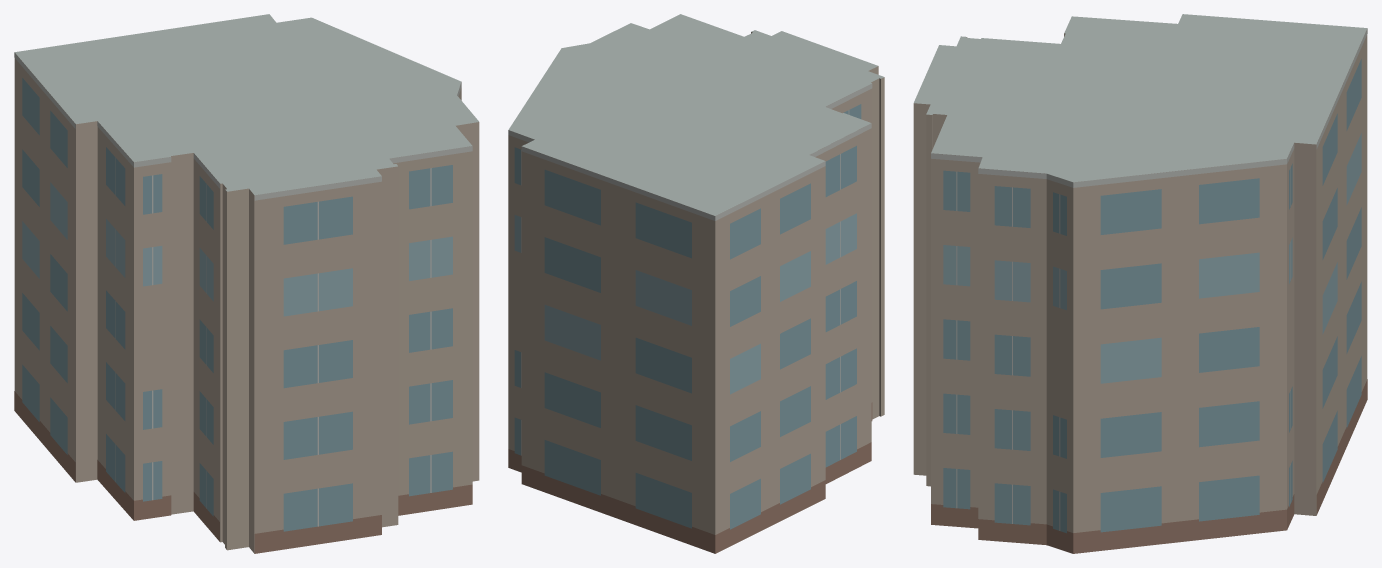
File: survey-upis-32925874.glb
3 views of the same model, side by side, from view 1: azimuth 30°, elevation 25°; view 2: azimuth 150°, elevation 25°; view 3: azimuth 270°, elevation 25° (orthographic). The views are drawn at different scales.
Parts seen in each view (by area): view 1: survey-upis-32925874.tmp; view 2: survey-upis-32925874.tmp; view 3: survey-upis-32925874.tmp.
Boxes of the visible parts, left/top/right/bottom form: survey-upis-32925874.tmp: left=14, top=14, right=479, bottom=553; survey-upis-32925874.tmp: left=508, top=14, right=884, bottom=553; survey-upis-32925874.tmp: left=913, top=14, right=1367, bottom=553.
Size of the model in its own units: 15.85 by 16.3 by 18.06.
